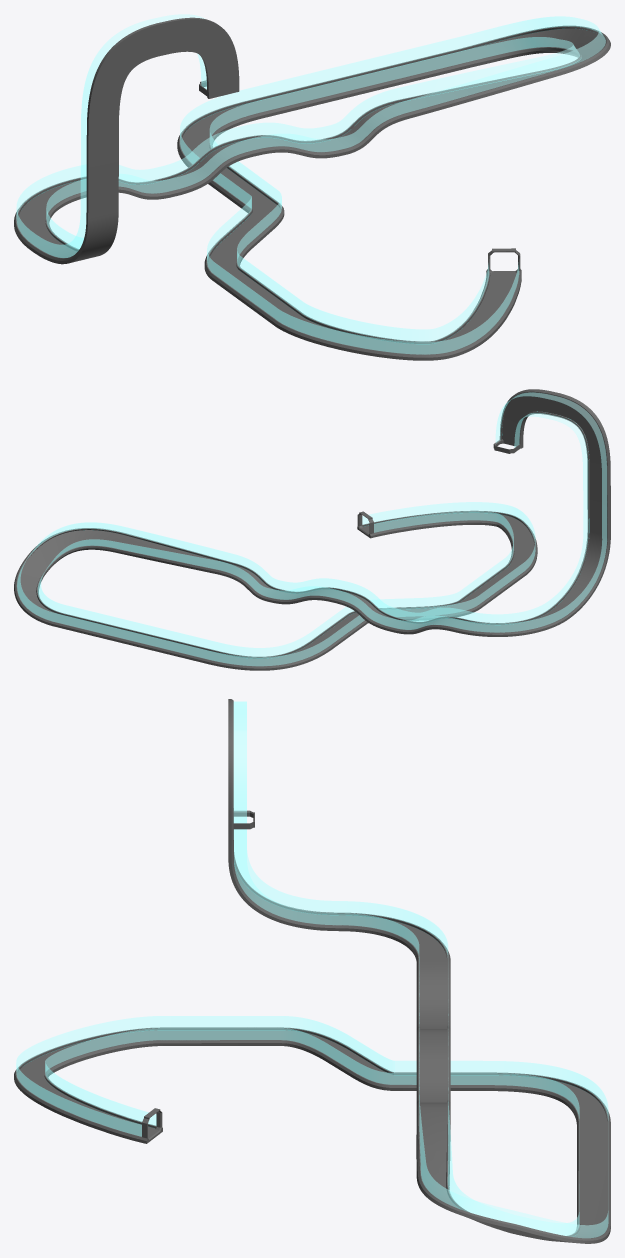
The model's file is track_kart.fbx.
The picture shows the model from 3 angles, top to bottom: view 1: azimuth 30°, elevation 25°; view 2: azimuth 150°, elevation 25°; view 3: azimuth 270°, elevation 25°; orthographic projection. The views are drawn at different scales.
Parts seen in each view (by area): view 1: Road; view 2: Road; view 3: Road.
Boxes of the visible parts, <box> form: Road: <box>14,14,610,360</box>; Road: <box>14,389,610,670</box>; Road: <box>14,699,610,1243</box>.
Bounding box in the file's own units: 452 × 196 × 372.
